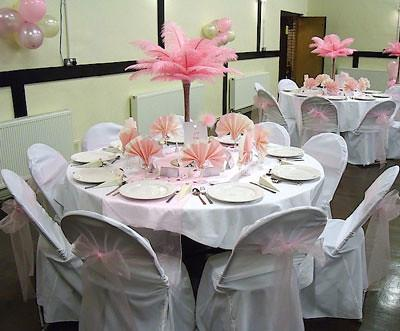table: (64, 135, 325, 251), (279, 87, 398, 166)
